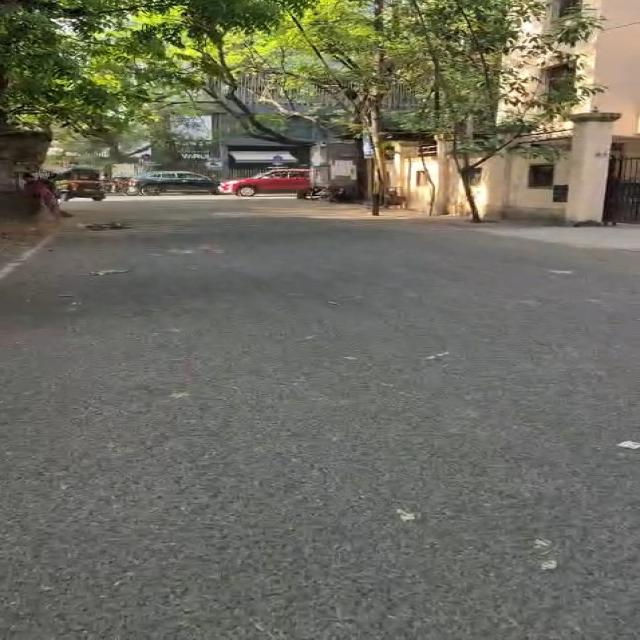obstacle: (370, 0, 385, 215)
vehicle: (220, 169, 310, 197), (128, 171, 219, 195), (49, 167, 105, 201)
